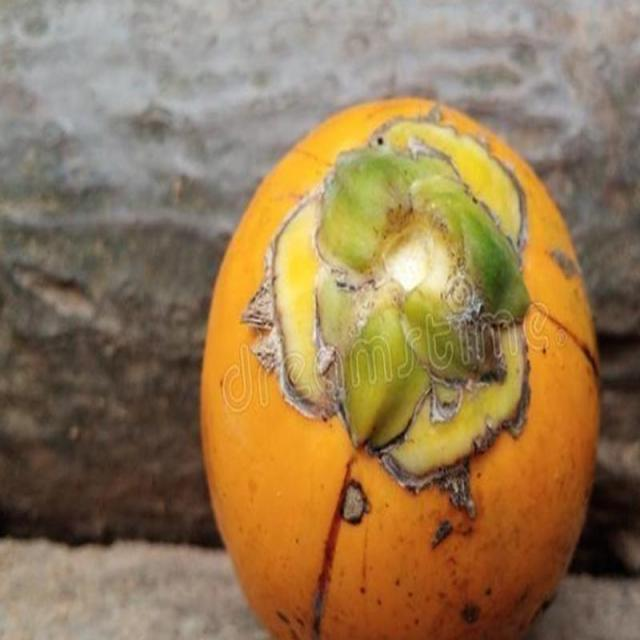good: (199, 97, 602, 639)
